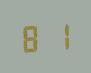eight: (19, 21, 44, 53)
one: (45, 20, 70, 51)
